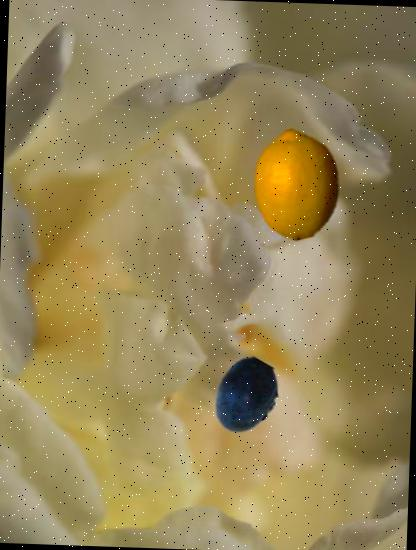Blueberry: (206, 357, 286, 437)
Lemon: (240, 127, 354, 241)
